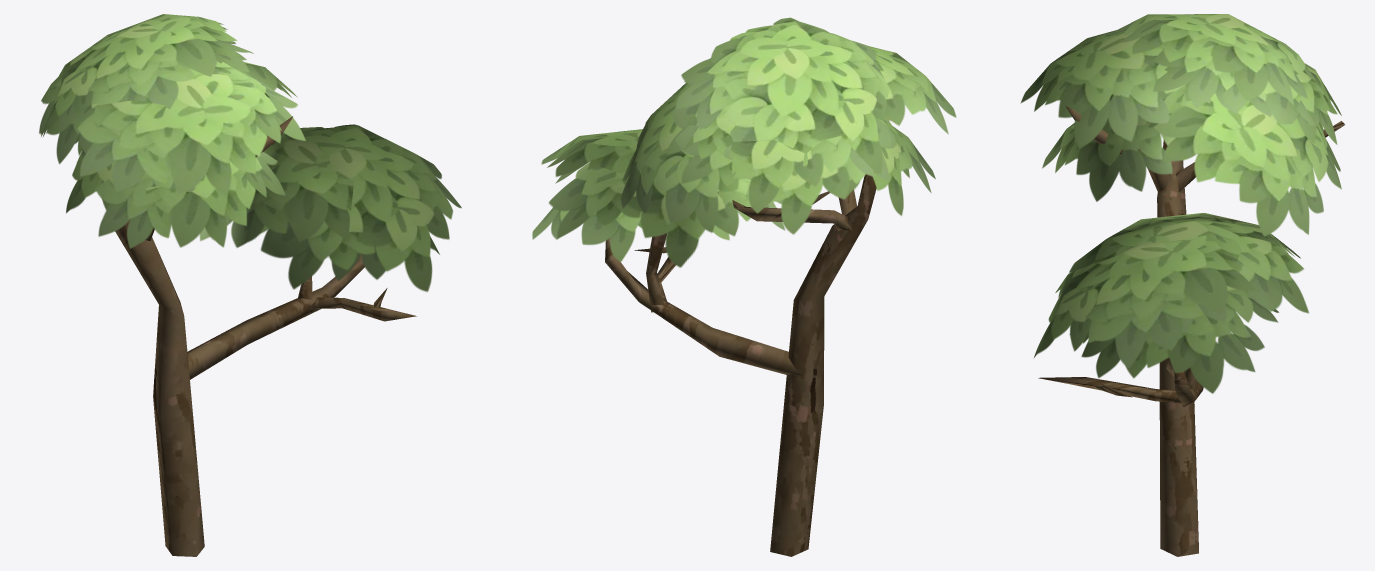
The model's file is street-tree-3-lo.glb.
3 views of the same model, side by side, from view 1: azimuth 30°, elevation 25°; view 2: azimuth 150°, elevation 25°; view 3: azimuth 270°, elevation 25° (orthographic).
Visible parts, largest first — view 1: Tree_6; view 2: Tree_6; view 3: Tree_6.
Boxes of the visible parts, x1,y1,x2,y2 form: Tree_6: [39, 14, 461, 556]; Tree_6: [532, 17, 956, 556]; Tree_6: [1020, 14, 1344, 556].
Bounding box in the file's own units: 7.24 × 8.54 × 5.3.
Materials: 2 (2 with a texture image).
